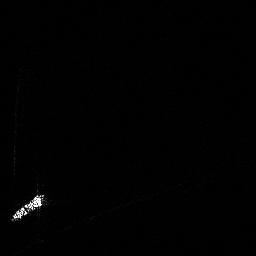ship: (7, 189, 50, 225)
